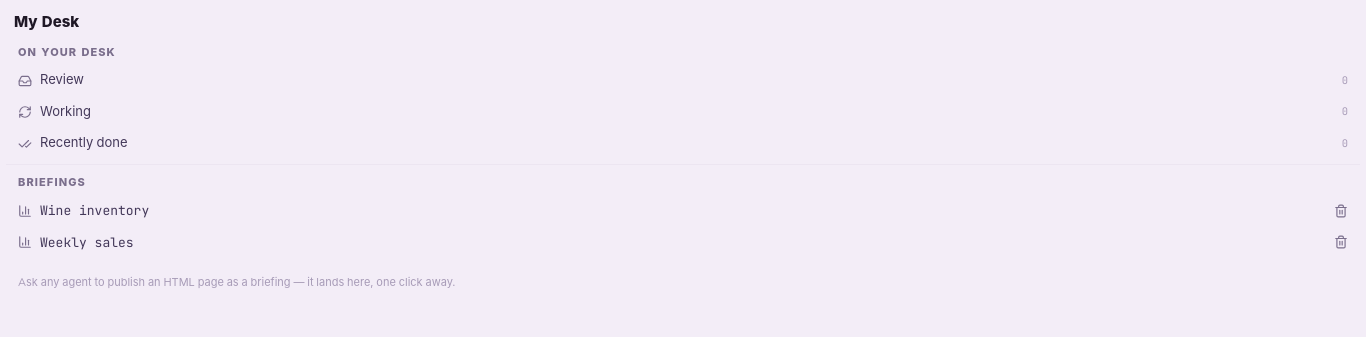
Test: a delete that fails › says so, and the briefing stays on the rail
The image size is (1366, 337).
Check: the text "Wine inventory" is shown, box [40,202,149,219]
Click the button named "Delete briefing \"Wine inventory\"".
click(1341, 211)  # box [1330,200,1352,222]
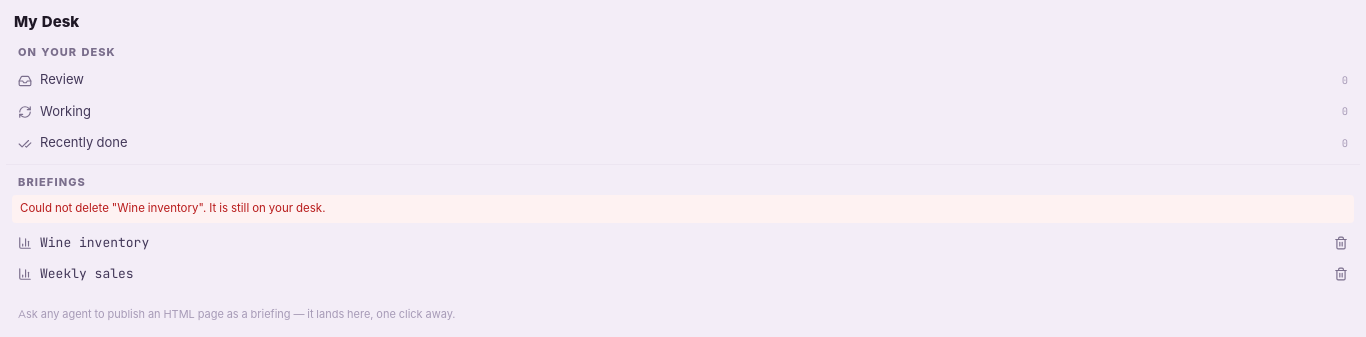
Check: the text "Wine inventory" is shown, box [40,234,149,251]
Check: the message shows "Wine inventory", box [20,200,326,216]
